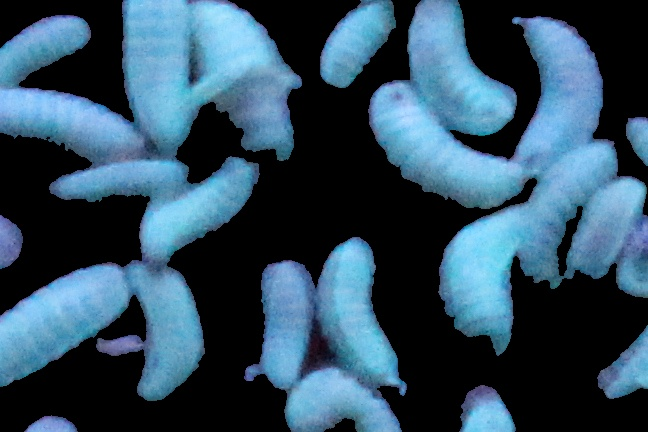larvae: (365, 74, 533, 210), (187, 1, 301, 158), (403, 1, 521, 144), (2, 258, 126, 387), (517, 3, 601, 169), (126, 249, 212, 410), (523, 141, 610, 286), (322, 234, 404, 386), (437, 210, 524, 353), (119, 1, 199, 146), (135, 162, 253, 260), (1, 89, 140, 157), (569, 174, 648, 282), (286, 368, 403, 432), (319, 1, 394, 87), (1, 16, 94, 84), (265, 261, 313, 390), (47, 158, 186, 201), (459, 390, 515, 432)
